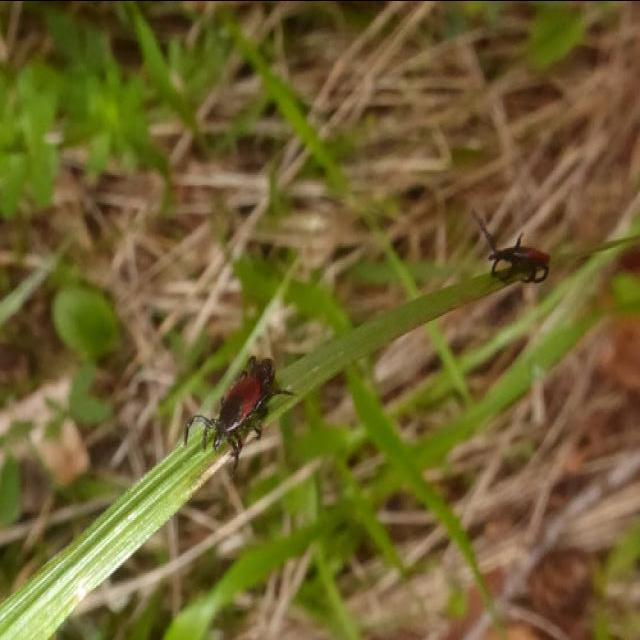Ixodes Ricinus-F: (211, 358, 282, 448)
